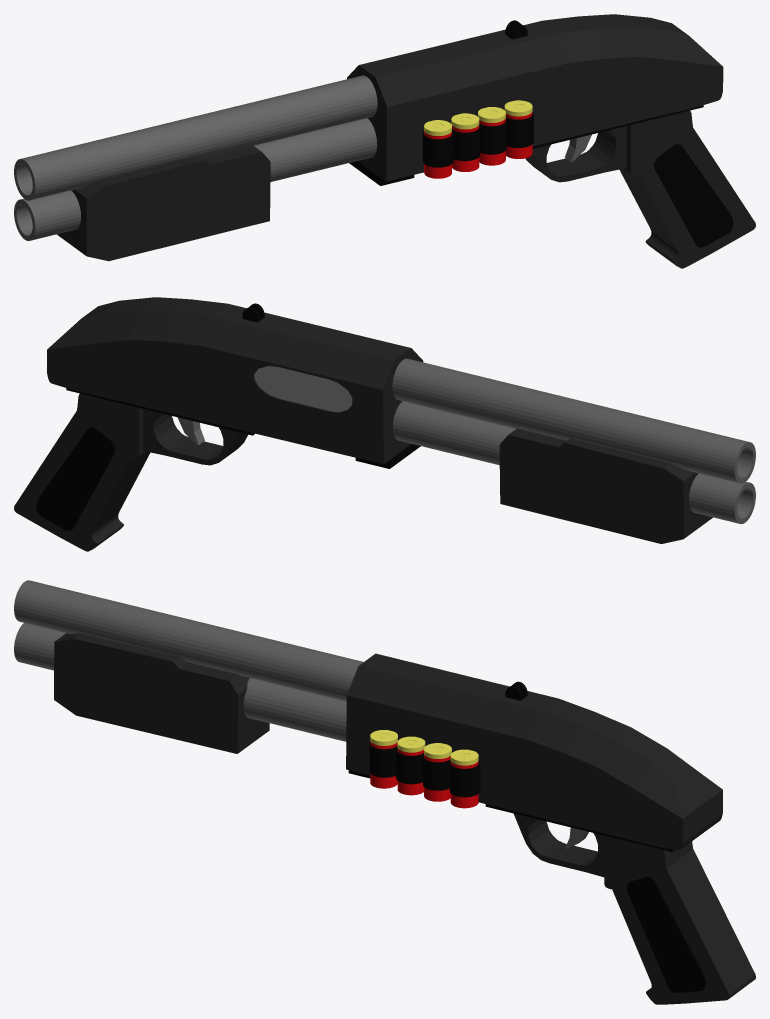
Rendered from SawedOffShotgun.fbx.
3 views of the same model, one above another, from view 1: azimuth 30°, elevation 25°; view 2: azimuth 150°, elevation 25°; view 3: azimuth 330°, elevation 25° (orthographic).
Visible parts, largest first — view 1: Body, Slide; view 2: Body, Slide; view 3: Body, Slide.
Part boxes in pixels (x1,y1,x2,y2): Body: [14, 14, 755, 268]; Slide: [57, 145, 270, 261]; Body: [14, 297, 755, 551]; Slide: [254, 366, 712, 543]; Body: [14, 580, 755, 1004]; Slide: [54, 633, 269, 753].
Size of the model in its own units: 719 by 261 by 94.4.
